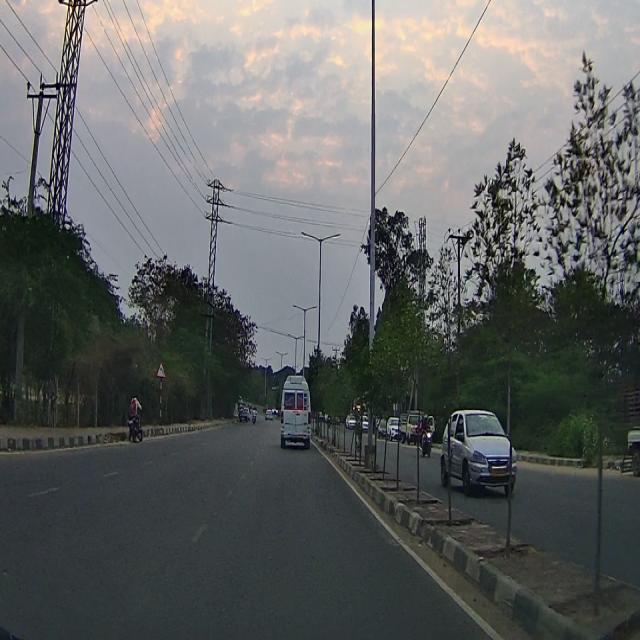left-hand-curve: (156, 360, 166, 377)
